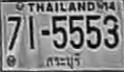1: (28, 15, 34, 48)
3: (102, 14, 118, 48)
5: (85, 14, 100, 48), (51, 15, 66, 48), (68, 15, 83, 48)
7: (7, 16, 20, 50)
SRI: (43, 52, 84, 72)
